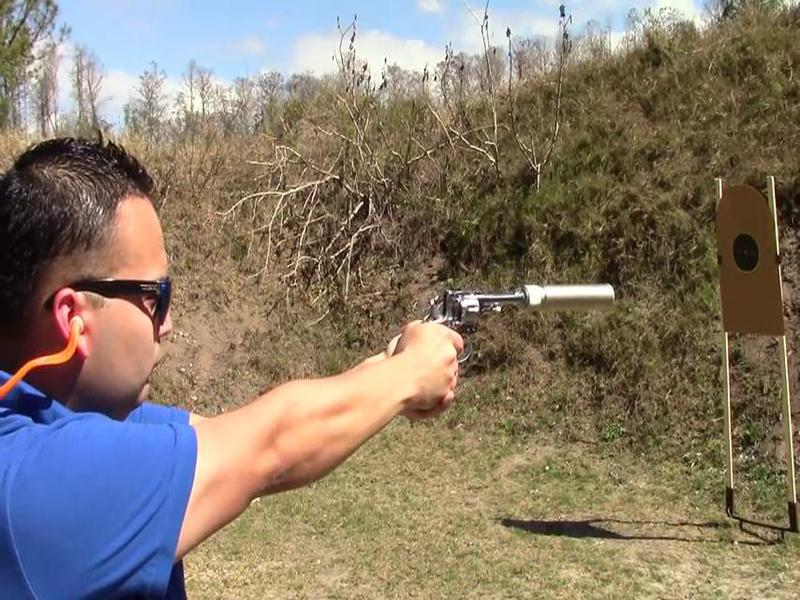Revolver: (416, 269, 535, 374)
